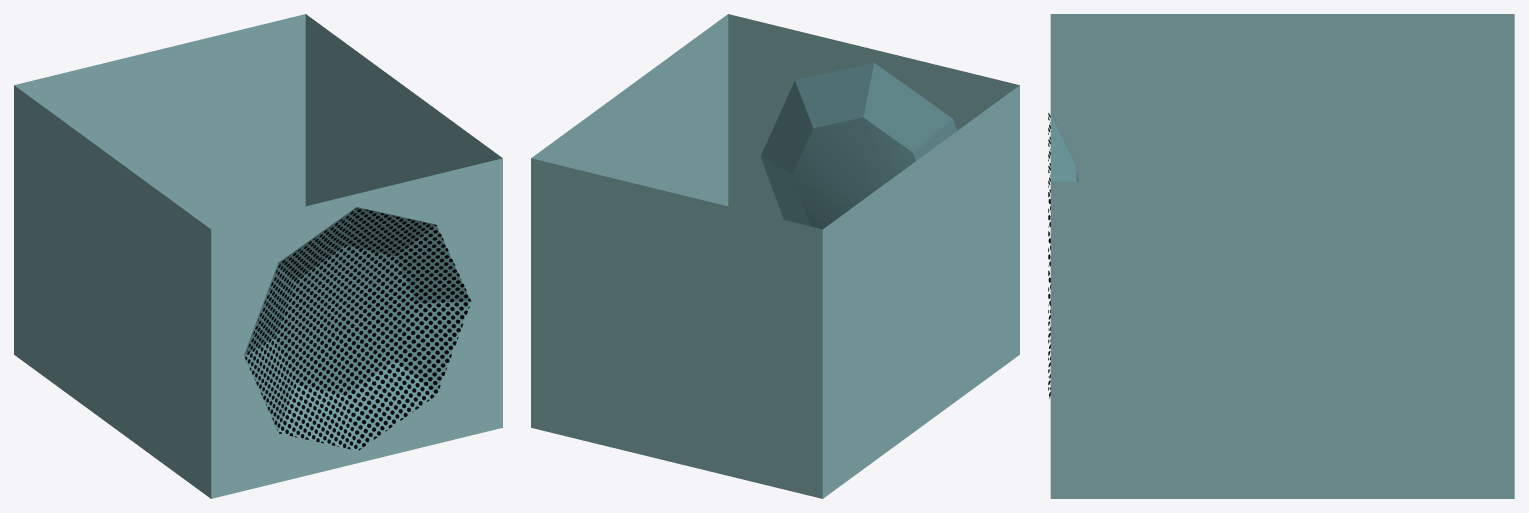
Rendered from Itr_Obj_Speaker1_Base_06.FBX.
The picture shows the model from 3 angles, left to right: view 1: azimuth 30°, elevation 25°; view 2: azimuth 150°, elevation 25°; view 3: azimuth 270°, elevation 25°; orthographic projection. The views are drawn at different scales.
Parts seen in each view (by area): view 1: Itr_Obj_Speaker1_Base_06; view 2: Itr_Obj_Speaker1_Base_06; view 3: Itr_Obj_Speaker1_Base_06.
Boxes of the visible parts, x1=… form: Itr_Obj_Speaker1_Base_06: x1=14, y1=14, x2=502, y2=498; Itr_Obj_Speaker1_Base_06: x1=531, y1=14, x2=1019, y2=498; Itr_Obj_Speaker1_Base_06: x1=1048, y1=14, x2=1514, y2=498.
Size of the model in its own units: 9.88 by 8.72 by 11.62.
